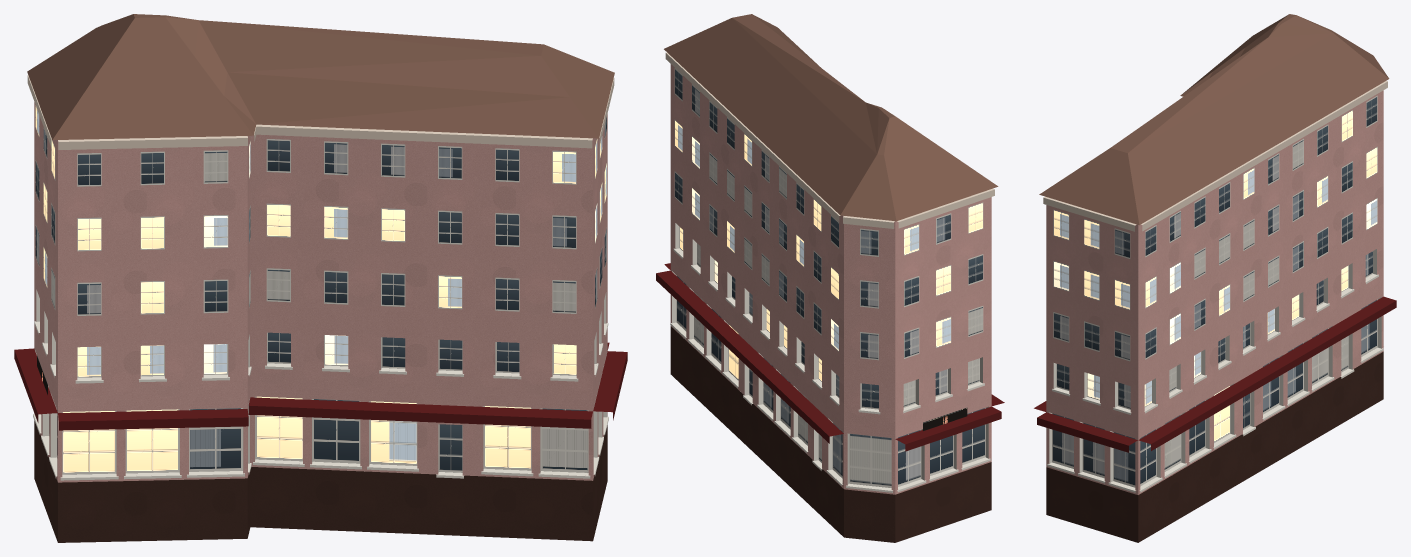
The model's file is langB_klaus.glb.
3 views of the same model, side by side, from view 1: azimuth 30°, elevation 25°; view 2: azimuth 150°, elevation 25°; view 3: azimuth 270°, elevation 25° (orthographic). The views are drawn at different scales.
Visible parts, largest first — view 1: langB_klaus; view 2: langB_klaus; view 3: langB_klaus.
Boxes of the visible parts, <box> form: langB_klaus: <box>14,14,627,542</box>; langB_klaus: <box>656,14,1004,542</box>; langB_klaus: <box>1034,14,1396,542</box>.
Bounding box in the file's own units: 26.29 × 24.09 × 20.66.
Materials: 3 (3 with a texture image).
